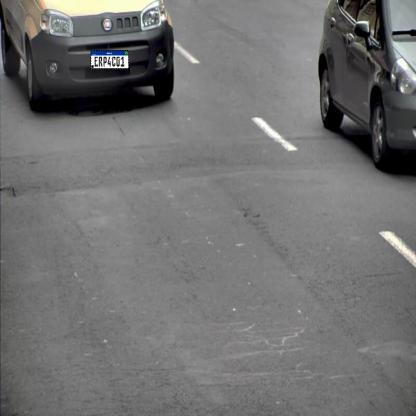PlacaM: (90, 50, 129, 69)
